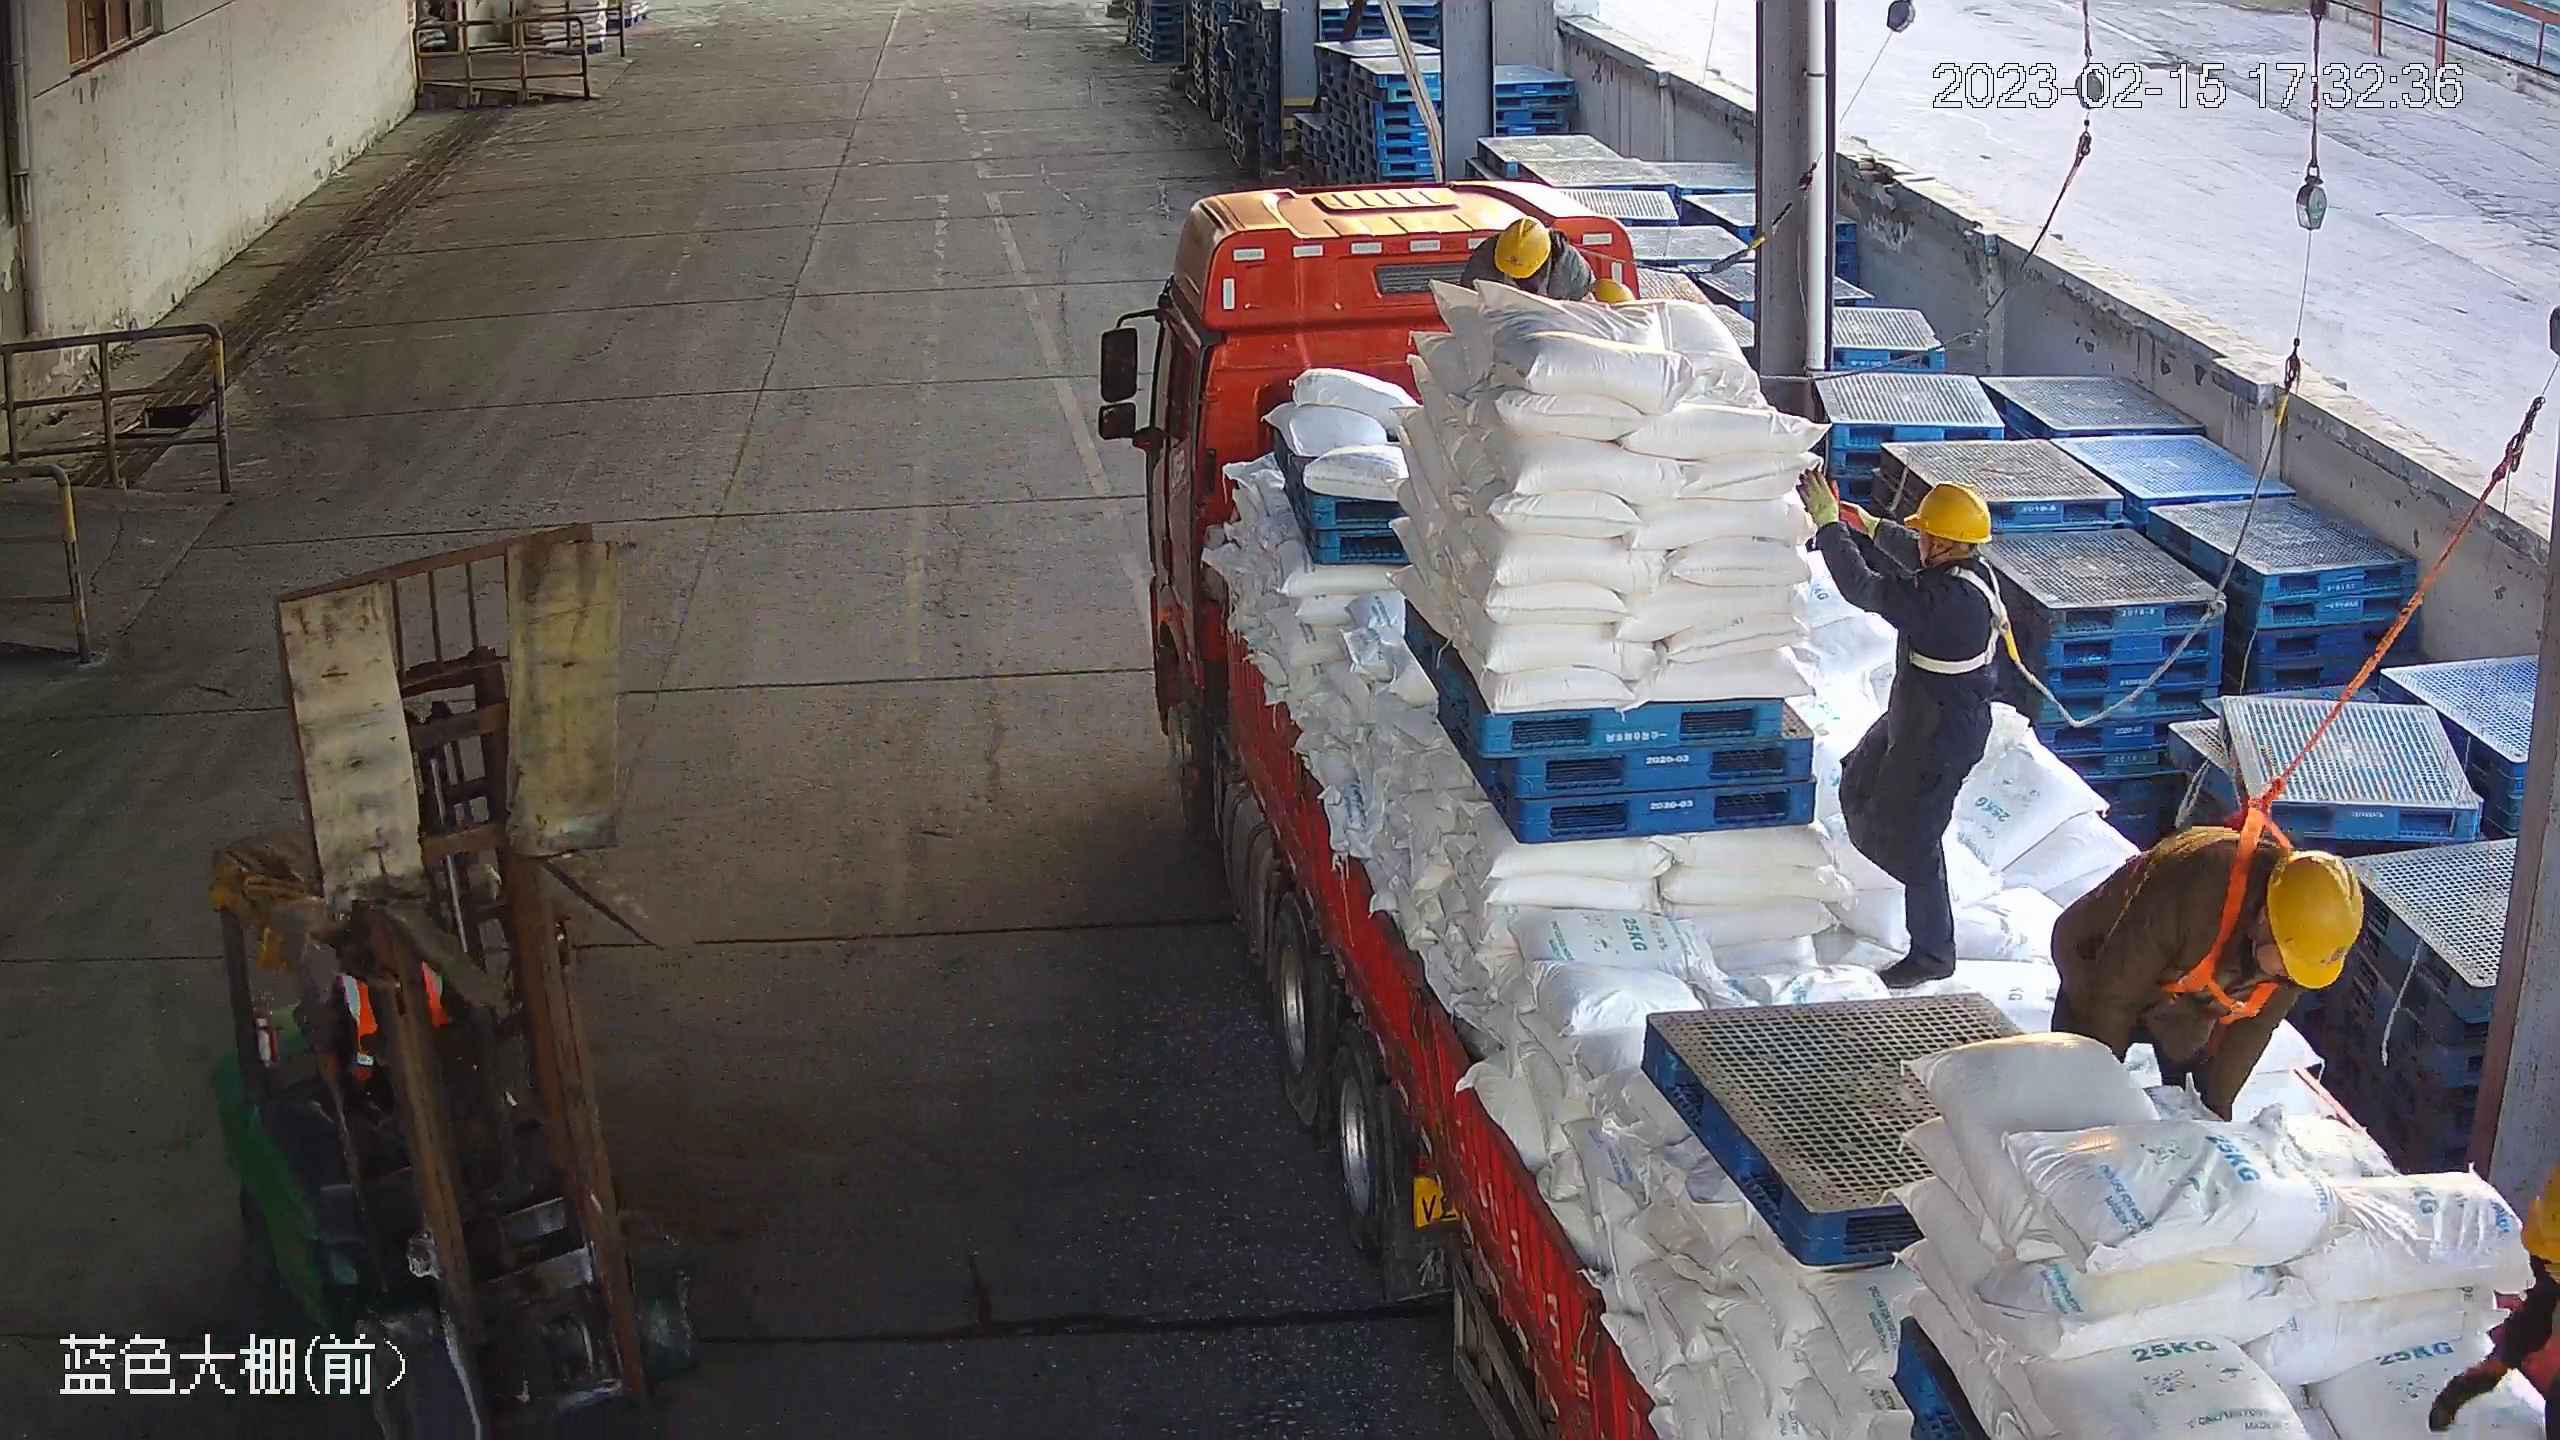belt: (2154, 791, 2297, 1026), (1905, 550, 2032, 687)
head: (2149, 822, 2366, 1000), (1896, 479, 1996, 618)
helmet: (2261, 848, 2366, 994), (1903, 479, 1991, 545), (1495, 215, 1552, 280)
people: (1786, 467, 2008, 991), (2042, 821, 2365, 1118)
truck: (1141, 180, 2560, 1440)
